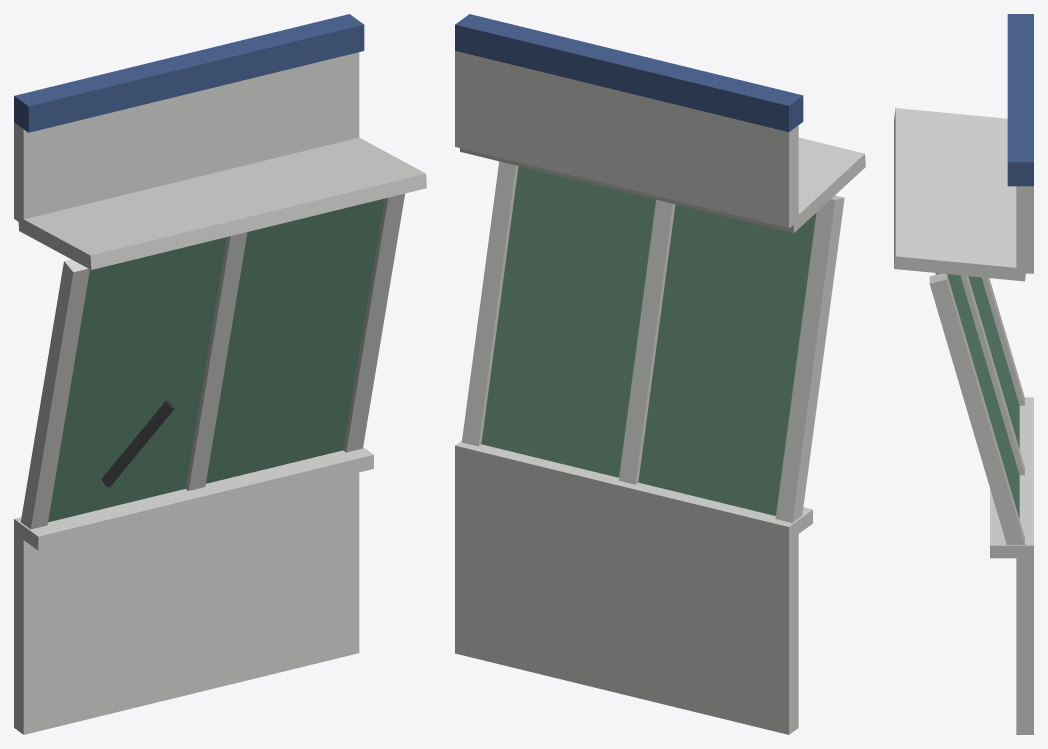
The model's file is CR_PuenteVentana.fbx.
3 views of the same model, side by side, from view 1: azimuth 30°, elevation 25°; view 2: azimuth 150°, elevation 25°; view 3: azimuth 270°, elevation 25° (orthographic). The views are drawn at different scales.
Parts seen in each view (by area): view 1: CR_PuenteVentana; view 2: CR_PuenteVentana; view 3: CR_PuenteVentana.
Part boxes in pixels (<box>): CR_PuenteVentana: <box>14,14,426,734</box>; CR_PuenteVentana: <box>455,14,865,734</box>; CR_PuenteVentana: <box>894,14,1033,734</box>.
Size of the model in its own units: 2 by 3.6 by 0.7971.
